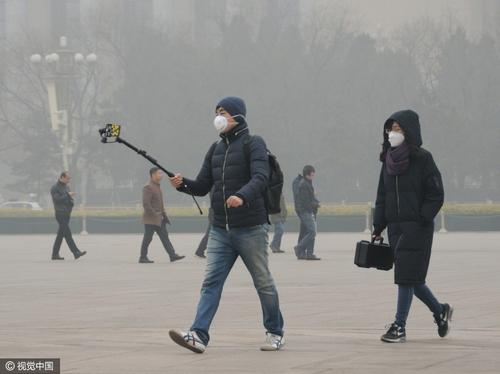yes_mask: (380, 108, 420, 151), (213, 92, 247, 136)
